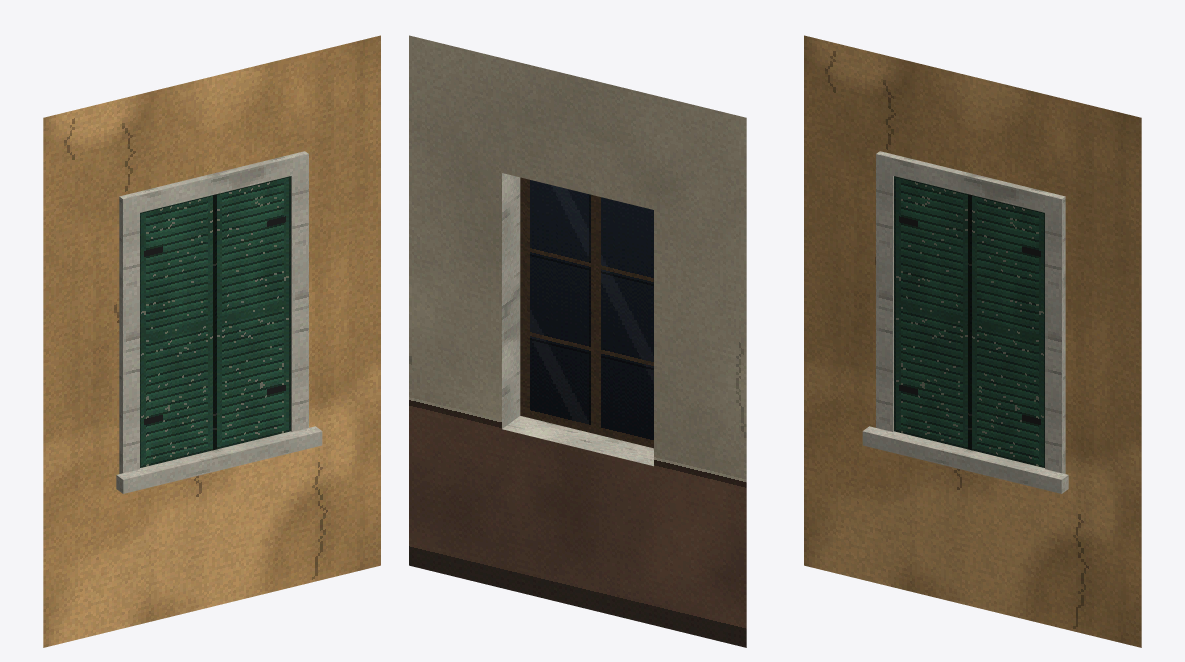
Rendered from ext_window_rect_shut.gltf.
3 views of the same model, side by side, from view 1: azimuth 30°, elevation 25°; view 2: azimuth 150°, elevation 25°; view 3: azimuth 330°, elevation 25° (orthographic).
Parts seen in each view (by area): view 1: ext_window_rect_shut; view 2: ext_window_rect_shut; view 3: ext_window_rect_shut.
Part boxes in pixels (x1,y1,x2,y2): ext_window_rect_shut: (43,35,380,647); ext_window_rect_shut: (409,35,746,647); ext_window_rect_shut: (804,35,1141,647).
Size of what is drawn, in the model's own units: 2 by 3 by 0.41.
5 materials, 5 textured.
